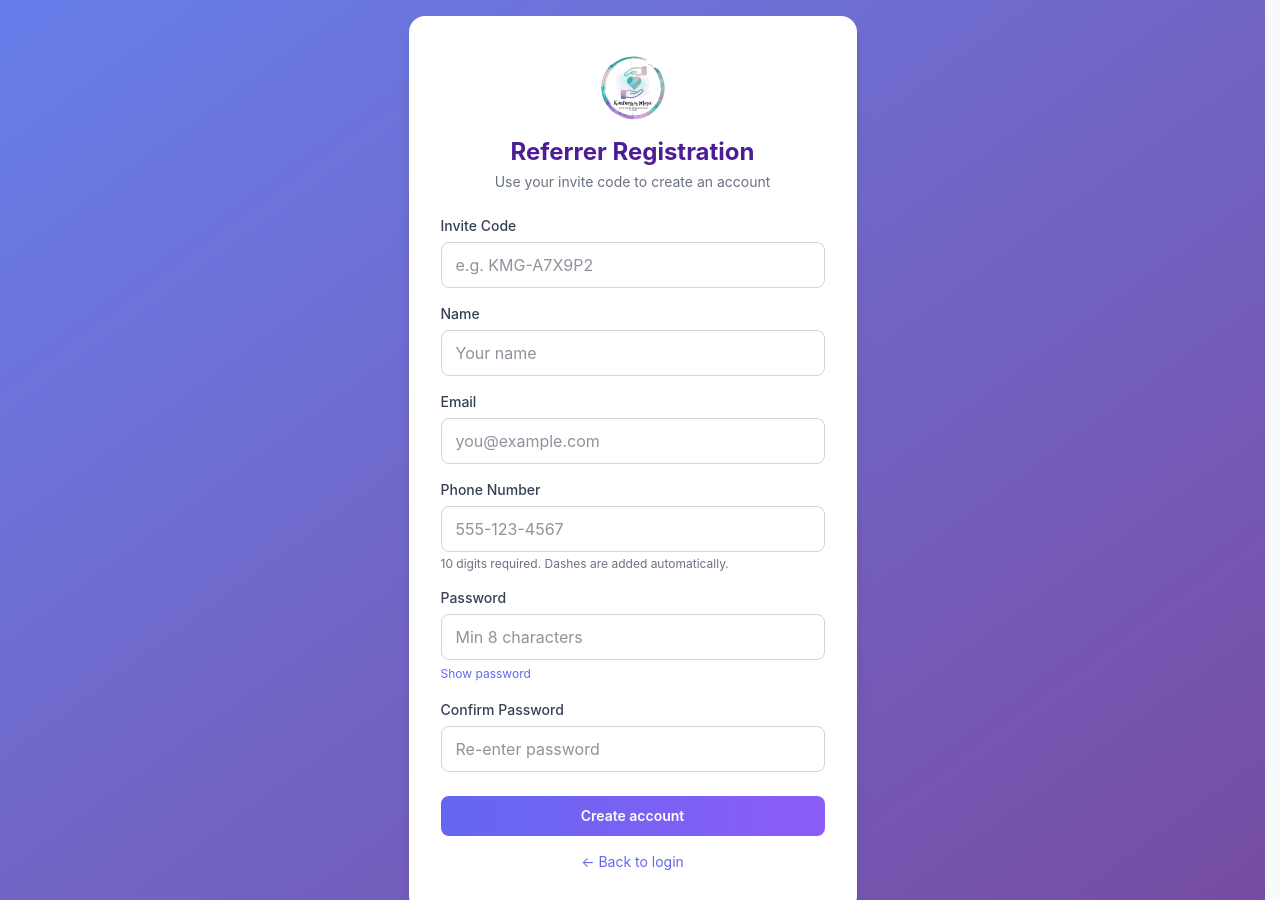
Scenario: ReferrerSelfRegister › shows error when password is too short
Type "KMG-TEST1" into the field labelled "Invite Code". click: (632, 265)
box: [440,242,824,288]
Type "Test Referrer" into the field labelled "Name". click: (632, 353)
box: [440,330,824,376]
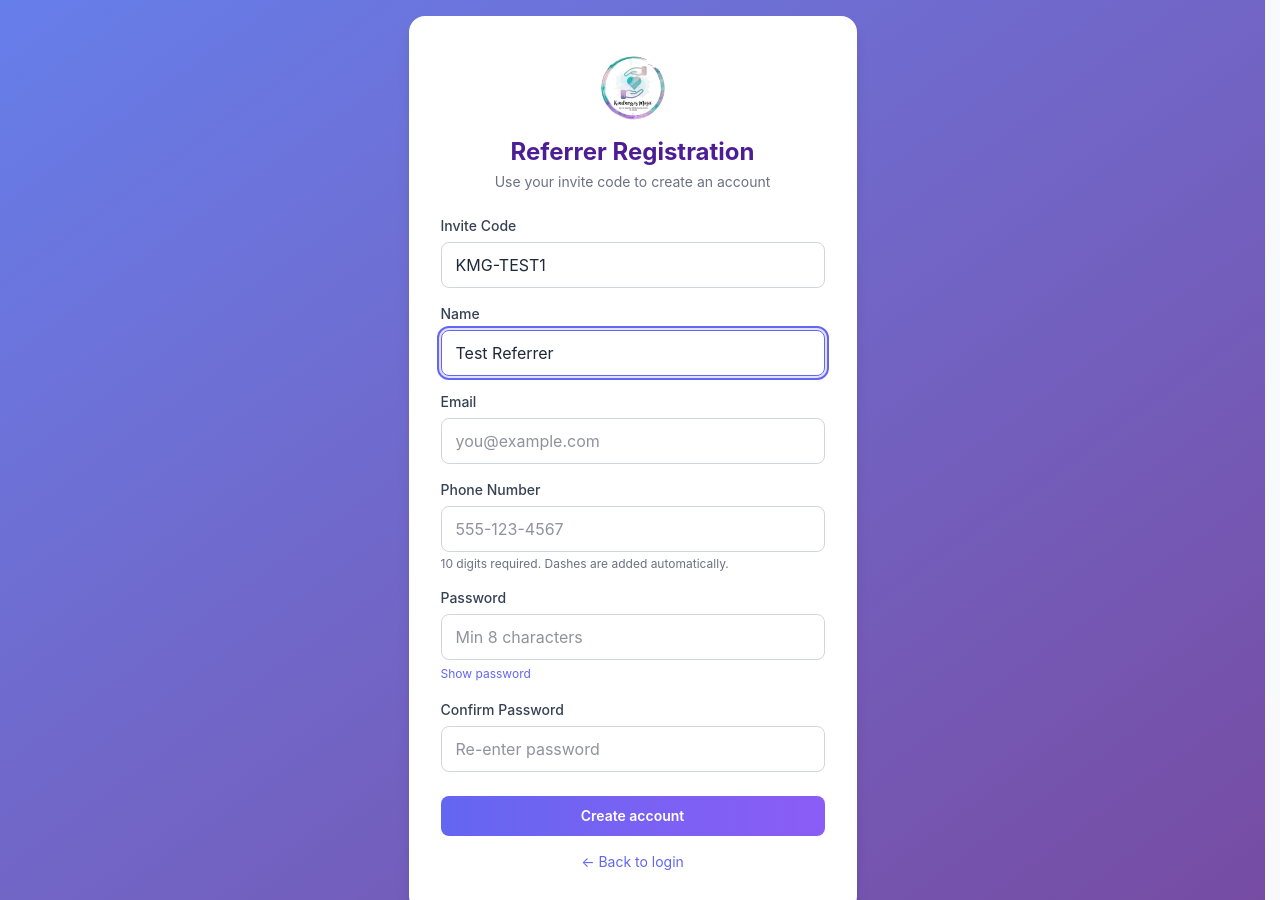
Type "test@example.com" into the field labelled "Email". click: (632, 441)
box: [440,418,824,464]
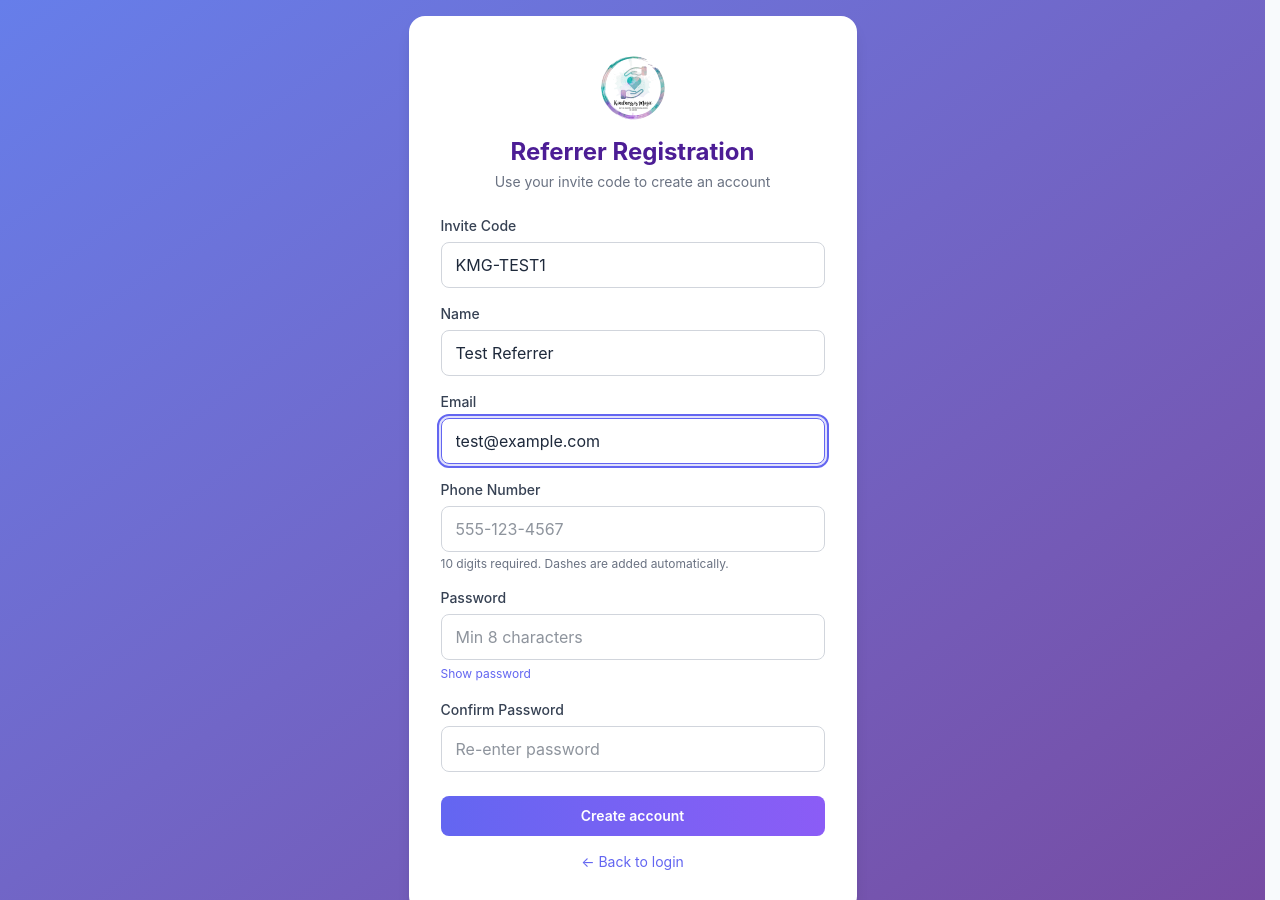
Type "07123 456789" into the field labelled "Phone Number". click: (632, 529)
box: [440,506,824,552]
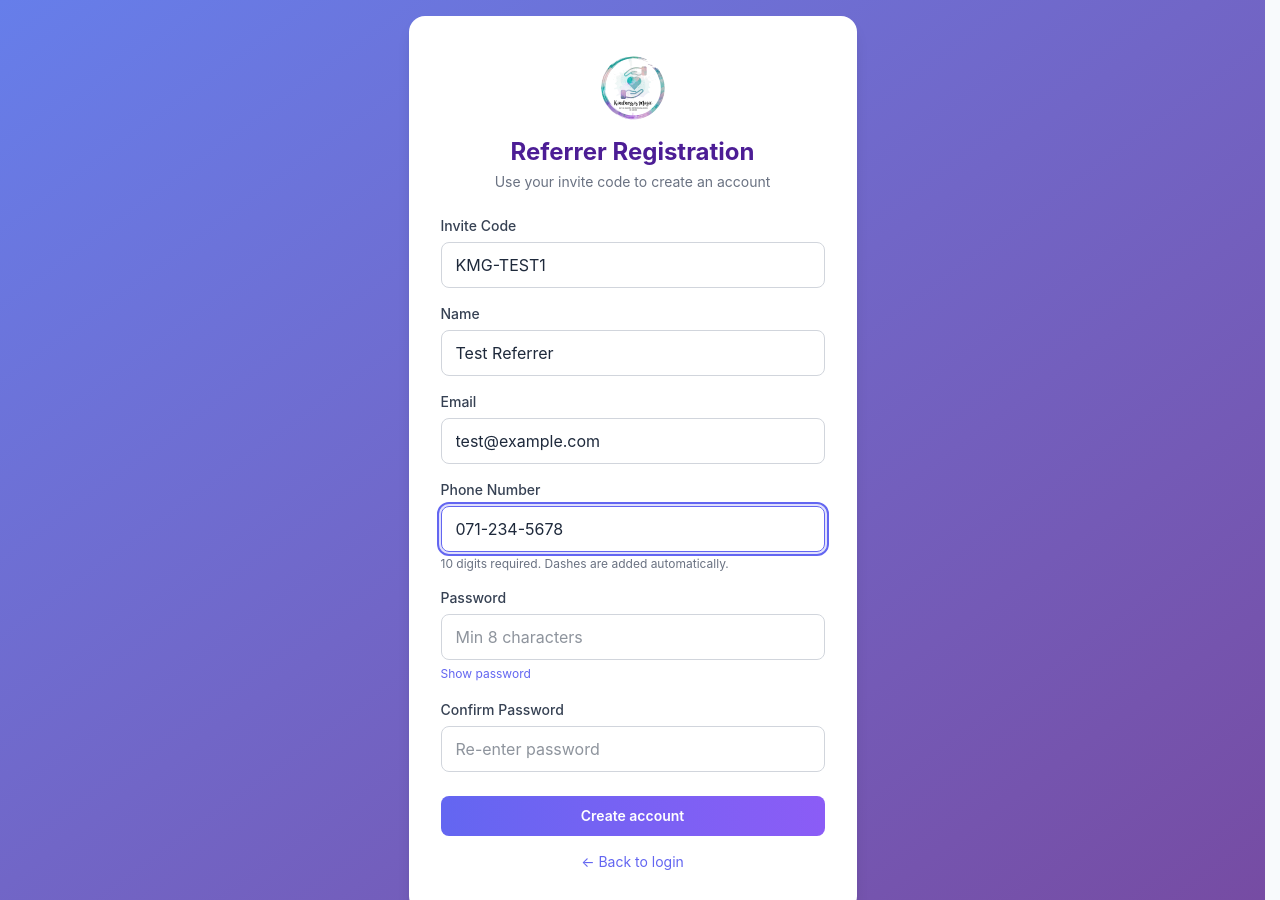
Type "short" into the password field labelled "Password". click: (632, 637)
box: [440,614,824,660]
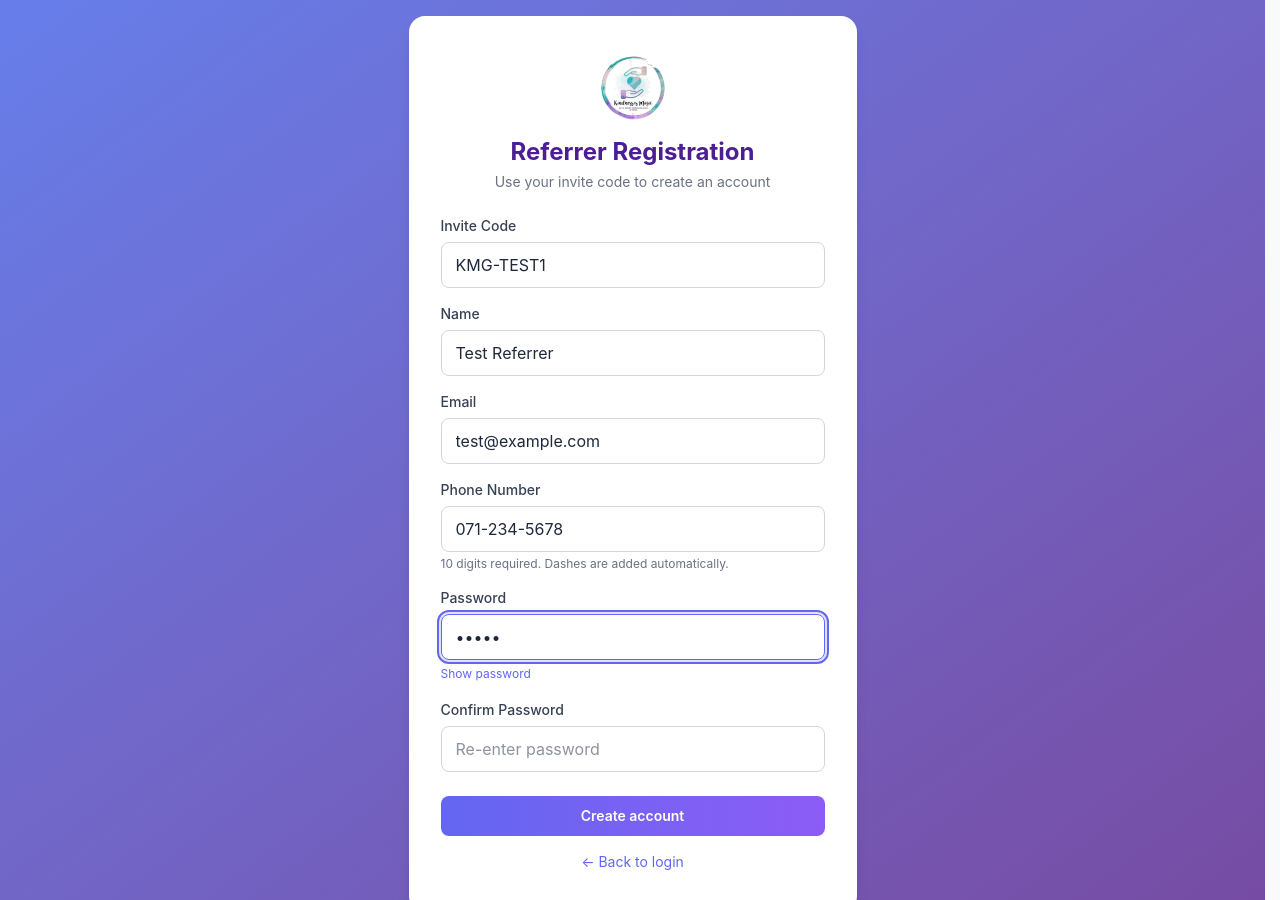
Type "short" into the password field labelled "Confirm Password". click: (632, 749)
box: [440,726,824,772]
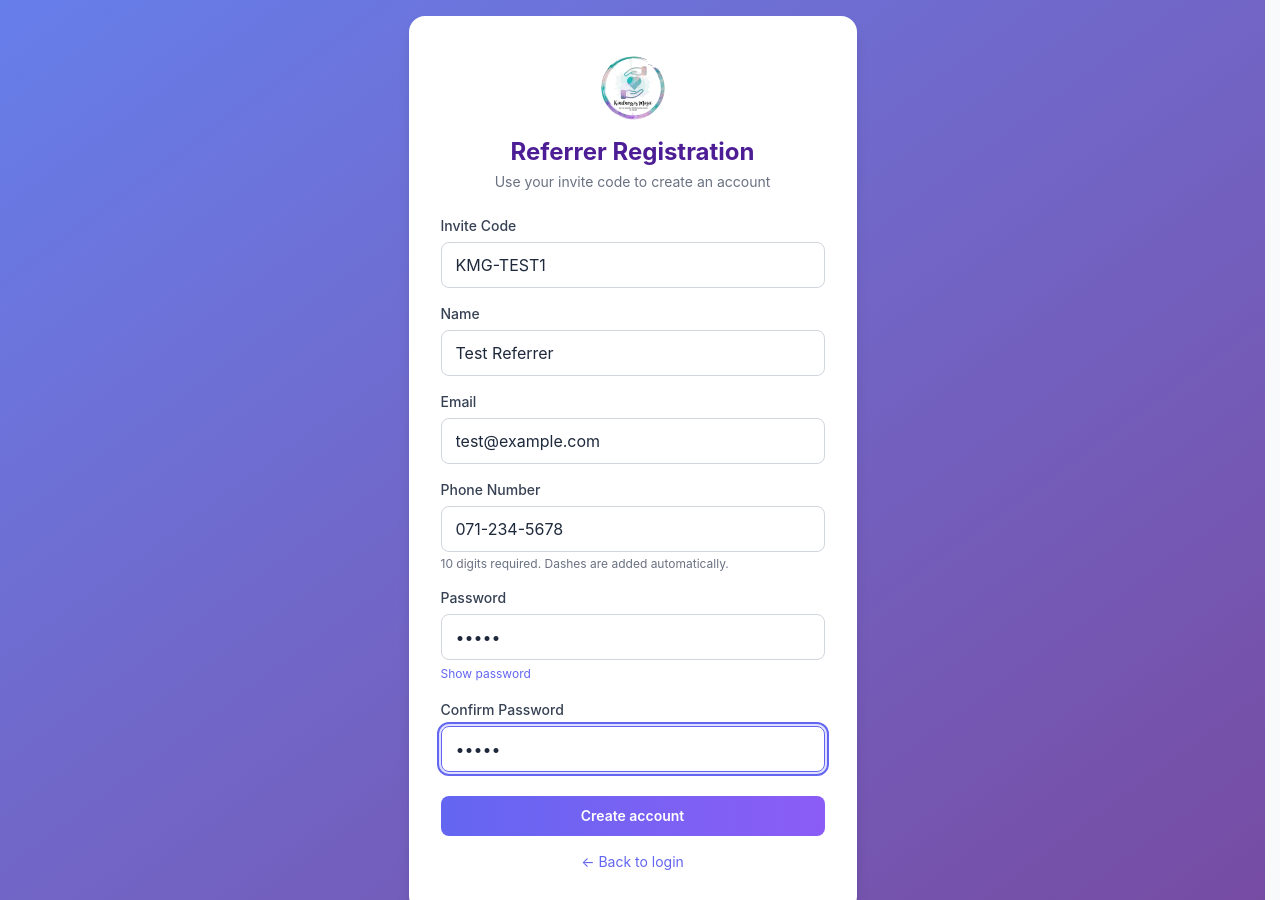
Click the button "Create account". click: (632, 816)
box: [440,796,824,836]
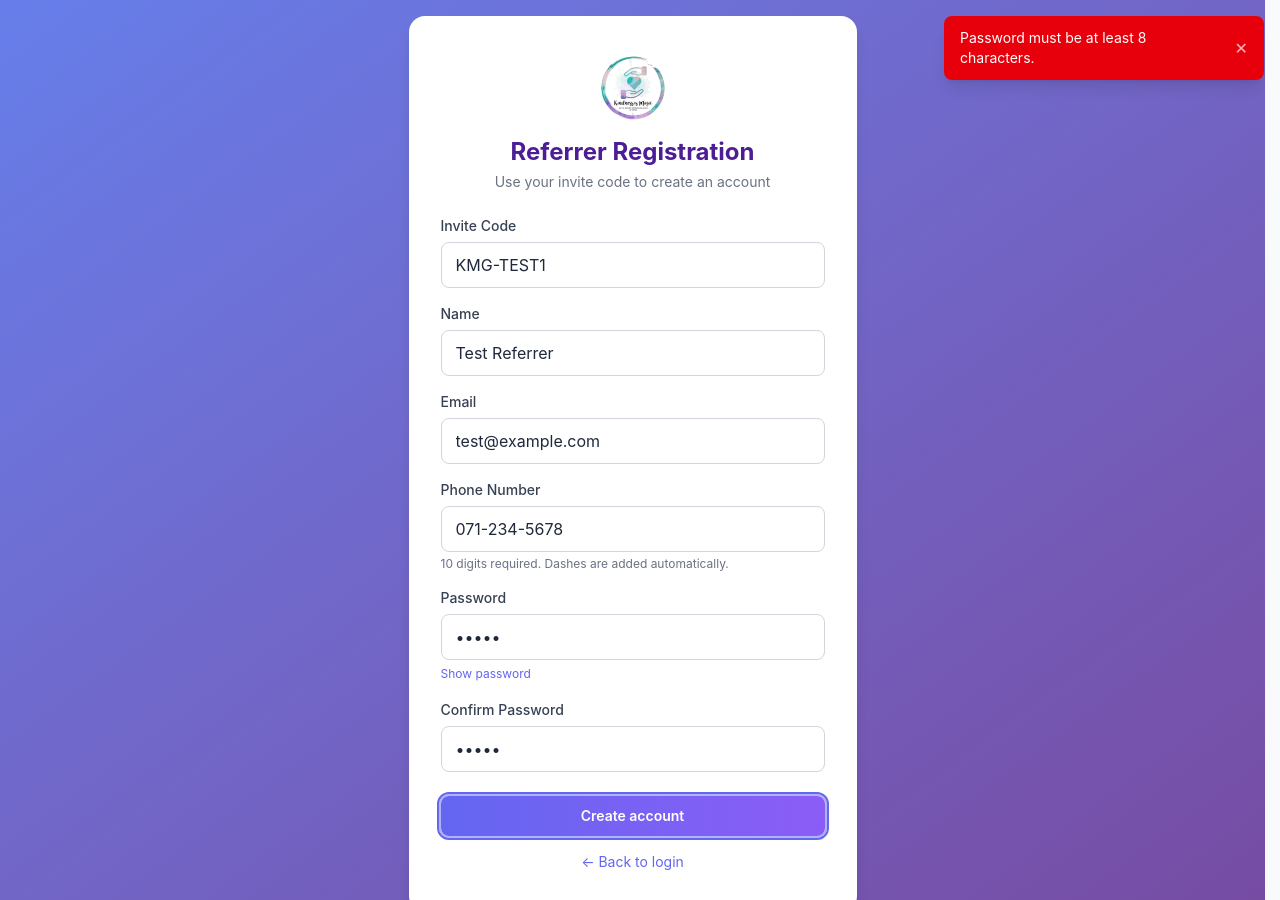
Expected: the text "Password must be at least 8 characters." is shown, [960,29,1146,66]
